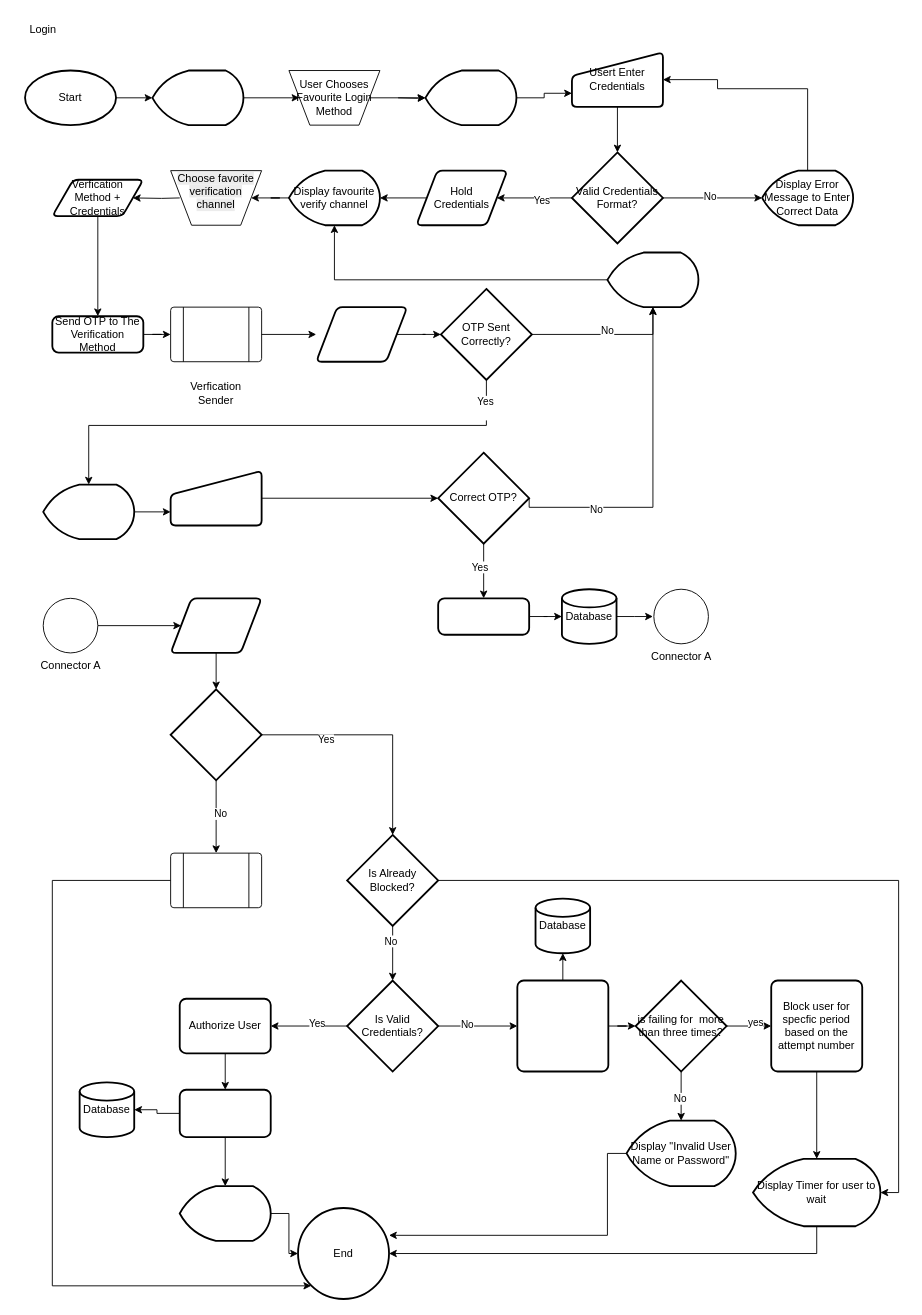
Image size: 922x1315. Some labels were removed from this diagram. The shapes that lost their labels are listed below. From the top down, each one's centre as x and y in pixels, then its label:
At (197,97): "Display Login Form".
At (470,97): "Display Form According to login method".
At (652,279): "Display Error Message".
At (361,334): "Hold OTP".
At (88,511): "Display Form To Enter OTP".
At (215,498): "User Enters OTP".
At (215,625): "User Data Saved".
At (483,616): "Fetch User Data".
At (215,734): "User Exist?".
At (216,880): "Registeration Process".
At (562,1025): "Audit failing retry".
At (224,1113): "Save last successful login + reset retry counter".
At (224,1213): "Display System for User.".
